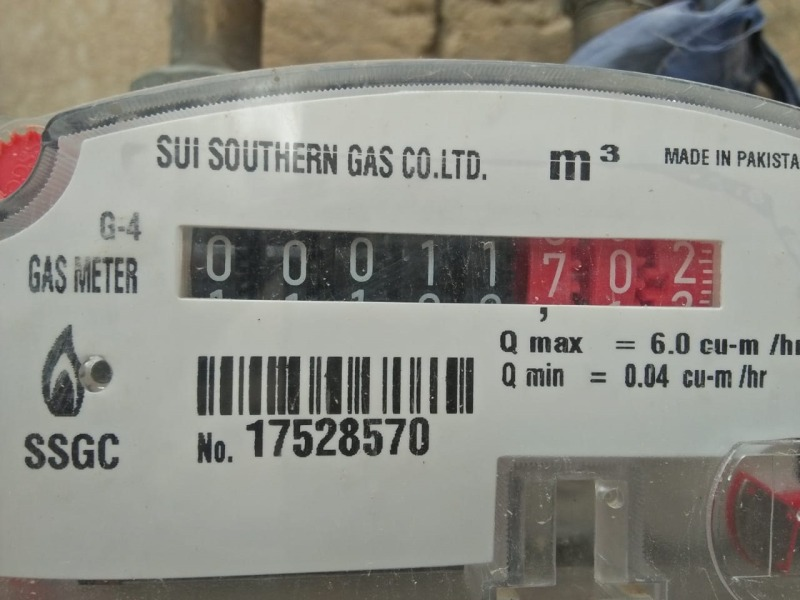ssgc: (173, 222, 724, 318)
